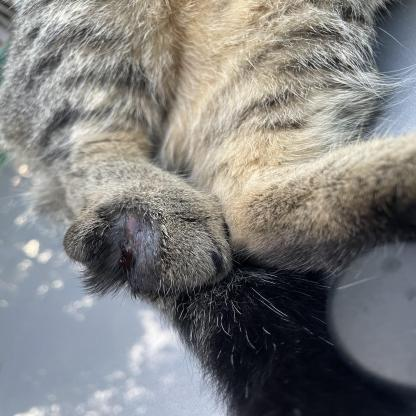injured: (86, 174, 183, 320)
